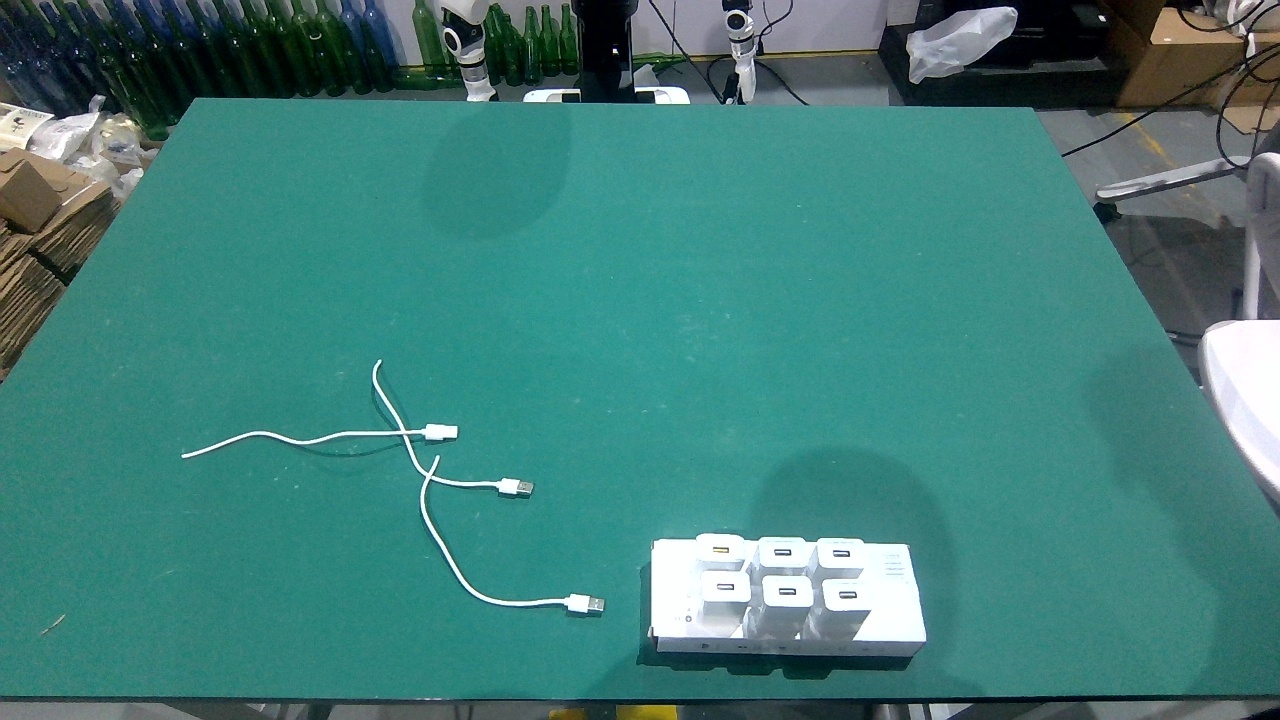usb_a_port: (835, 588, 859, 602), (708, 544, 733, 556), (714, 581, 738, 593), (770, 547, 796, 558), (775, 586, 800, 597), (831, 548, 851, 560)
